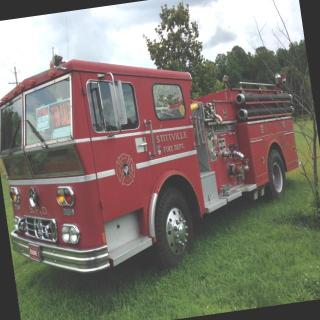Fire_truck: (0, 13, 315, 291)
